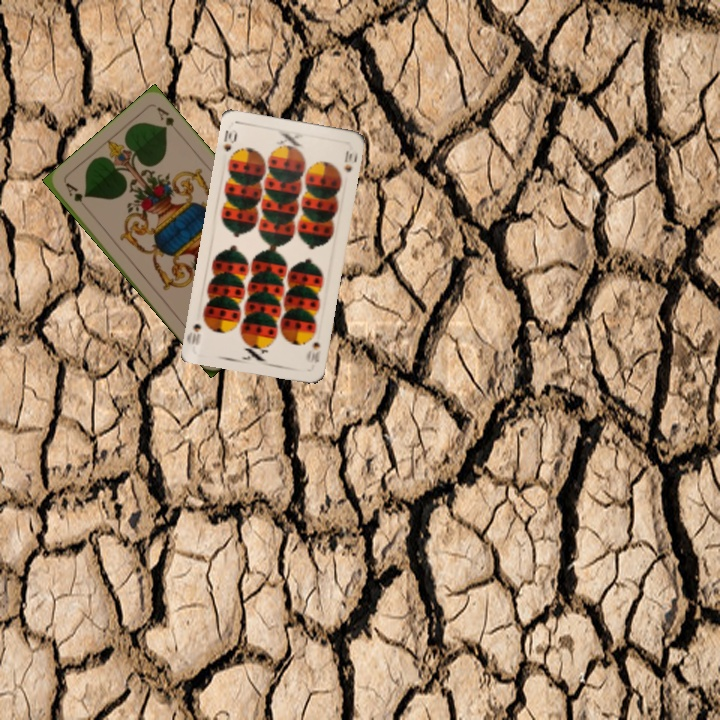GA: (61, 178, 91, 214)
S10: (219, 125, 240, 155), (304, 338, 323, 366)
